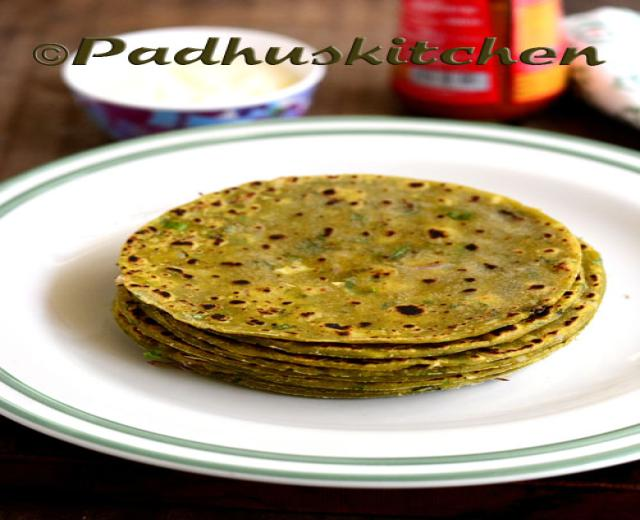chapati: (120, 176, 602, 353)
